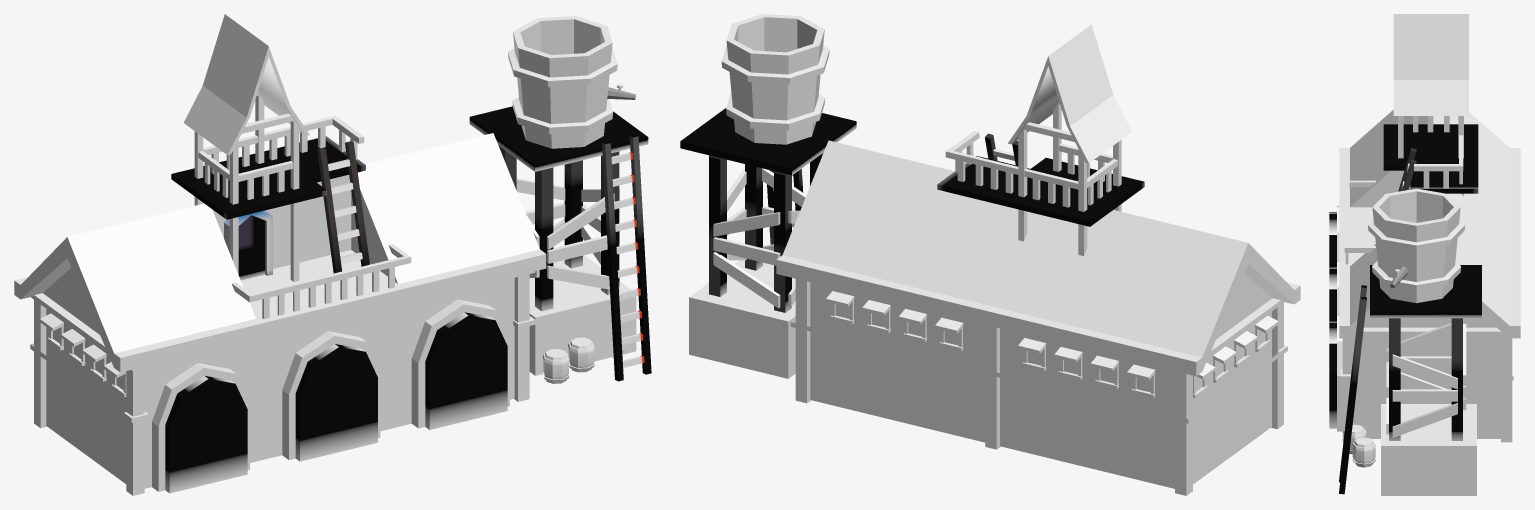
Rendered from FireStation.fbx.
3 views of the same model, side by side, from view 1: azimuth 30°, elevation 25°; view 2: azimuth 150°, elevation 25°; view 3: azimuth 270°, elevation 25° (orthographic). The views are drawn at different scales.
Parts seen in each view (by area): view 1: pCylinder210; view 2: pCylinder210; view 3: pCylinder210.
Part boxes in pixels (x1,y1,x2,y2): pCylinder210: [14, 14, 651, 495]; pCylinder210: [680, 14, 1300, 495]; pCylinder210: [1329, 14, 1520, 495].
Size of the model in its own units: 8.98 by 6.12 by 3.18.
